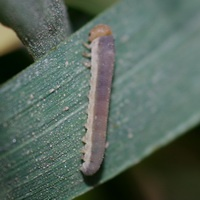insect: (80, 24, 114, 175)
